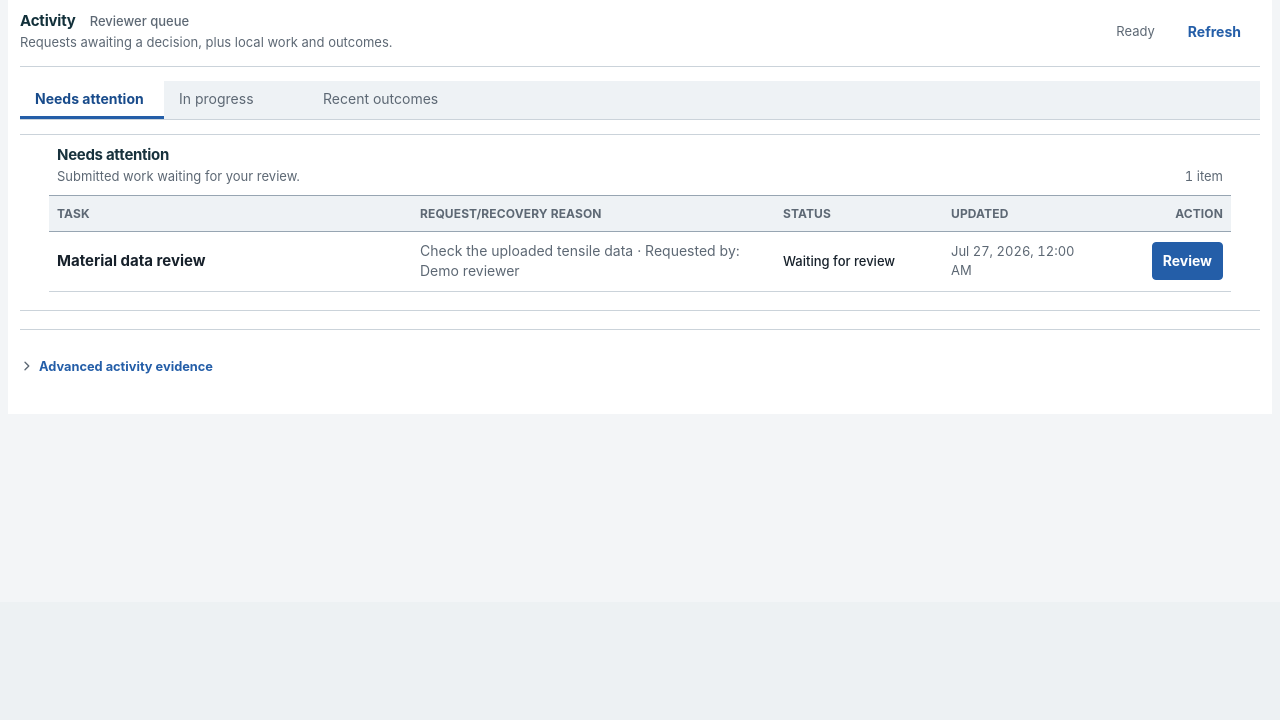
Test: Activity Modeling resume › records a change request only with an entered reason
The width and height of the screenshot is (1280, 720).
Click the button "Review". click: [1187, 261]
box: [1152, 242, 1223, 280]
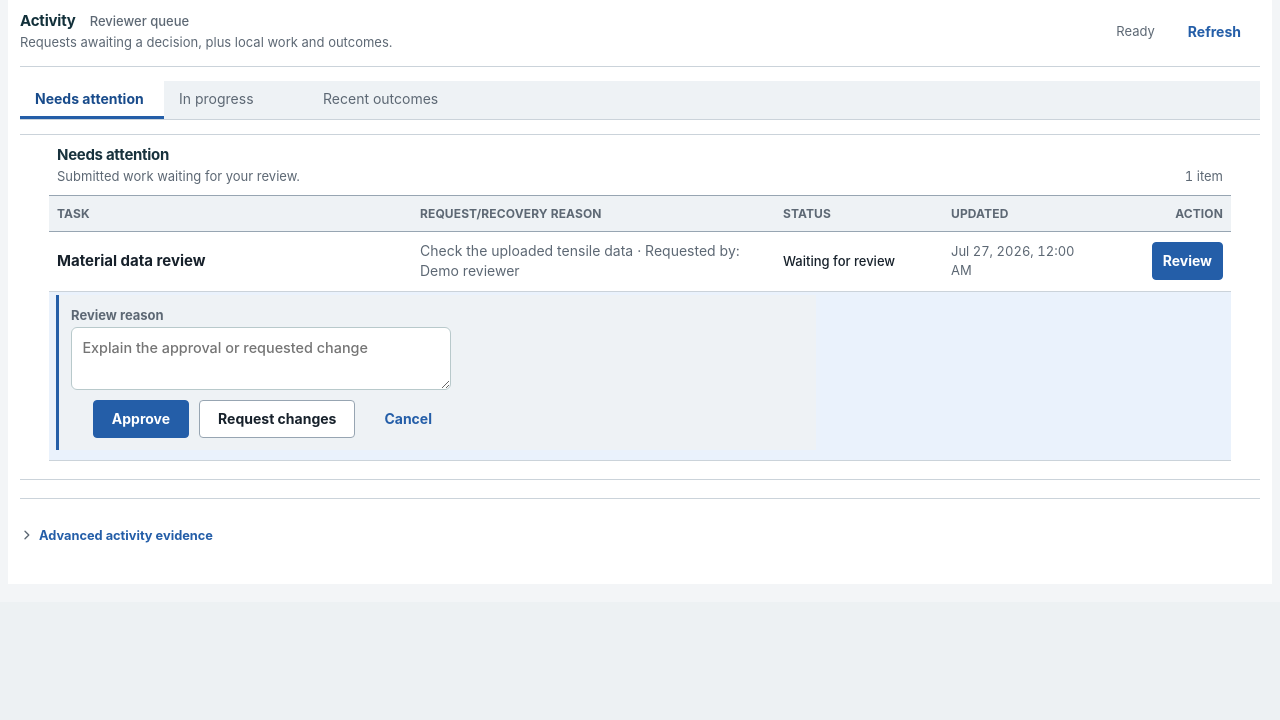
Click the button "Request changes". click: [277, 419]
box: [199, 400, 356, 438]
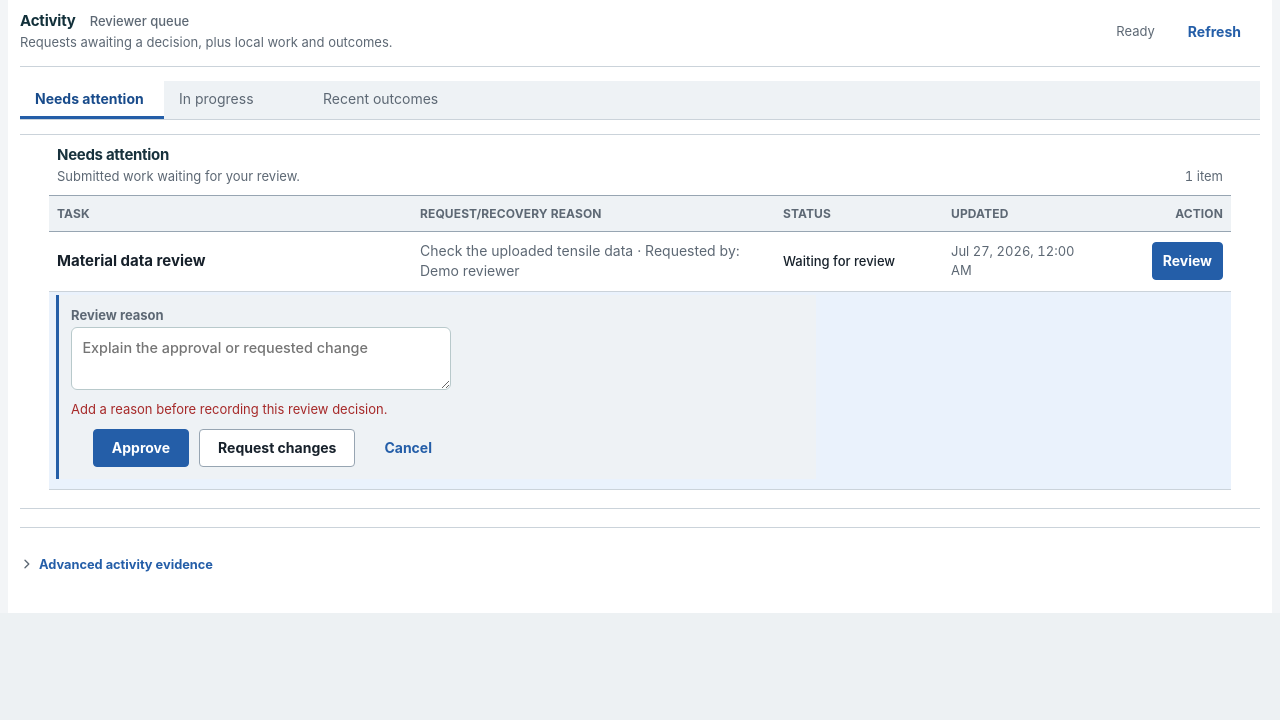
Check: the message "Add a reason before recording this review decision." is shown, box [71, 401, 388, 417]
Type "Add the test condition" into the text box labelled "Review reason". click: [261, 359]
box: [71, 327, 451, 390]
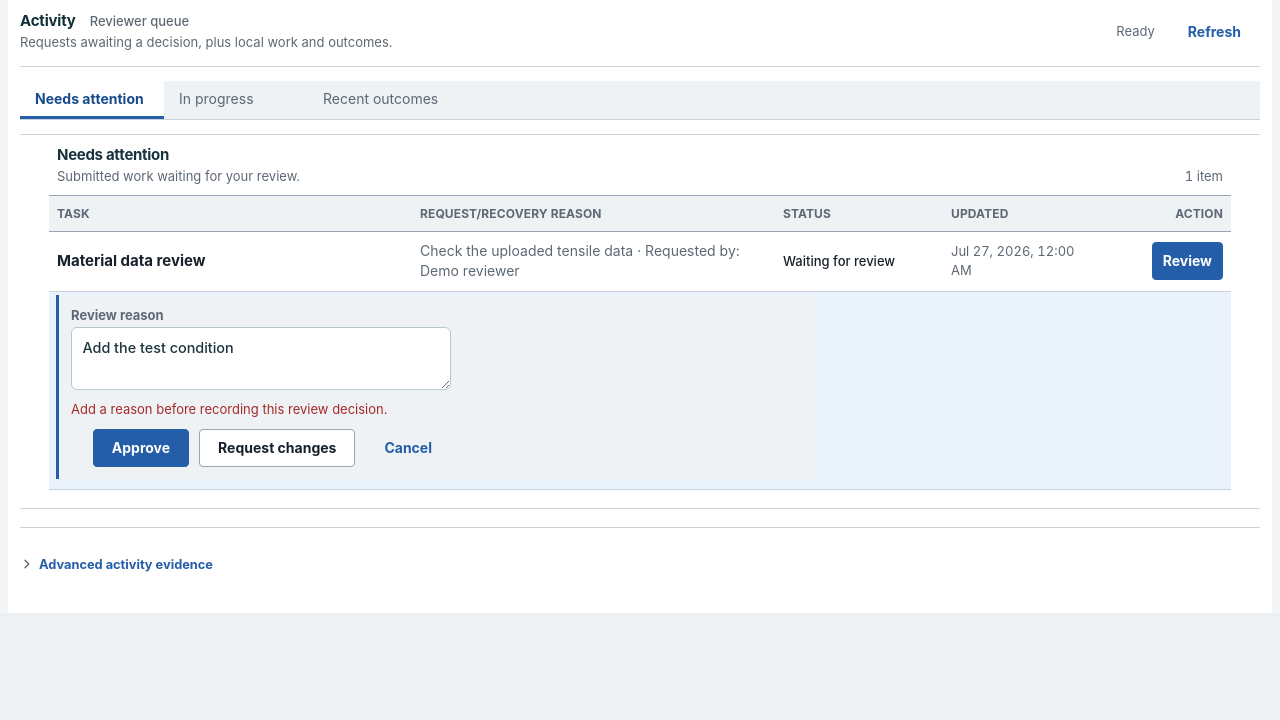
Click the button "Request changes". click: [277, 448]
box: [199, 429, 356, 467]
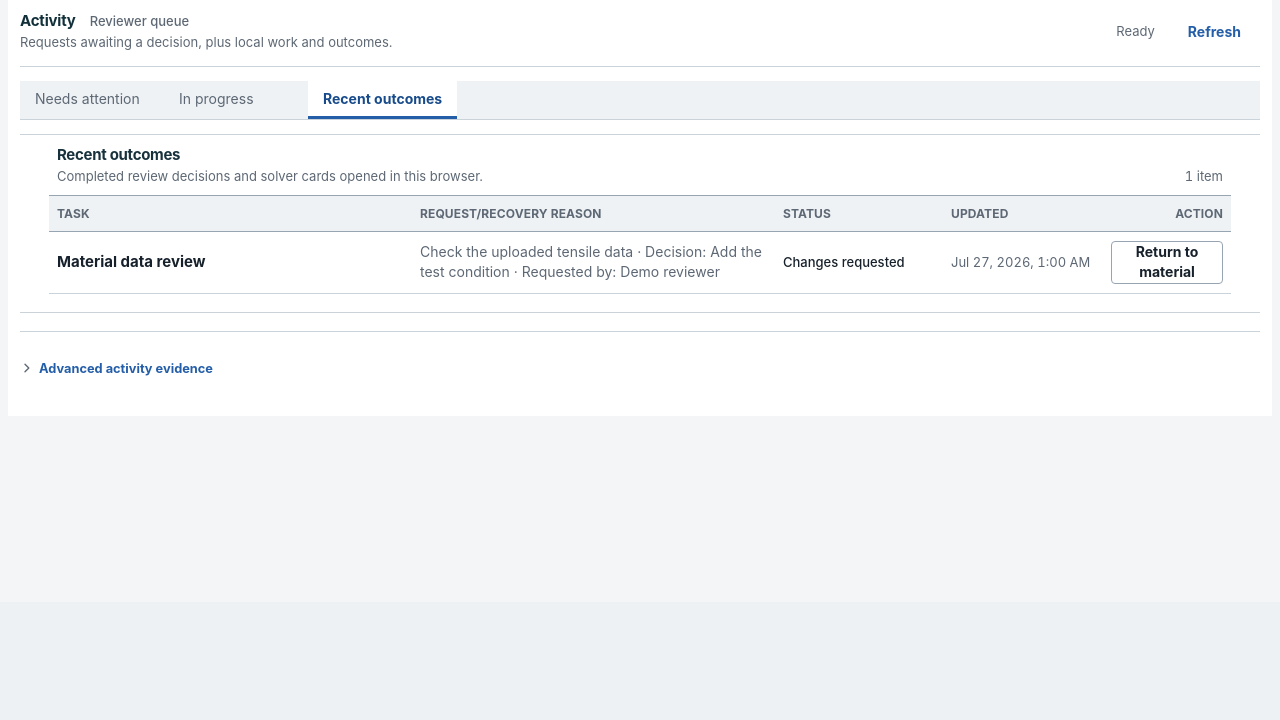
Check: the text "Changes requested" is shown, box [783, 254, 905, 270]
